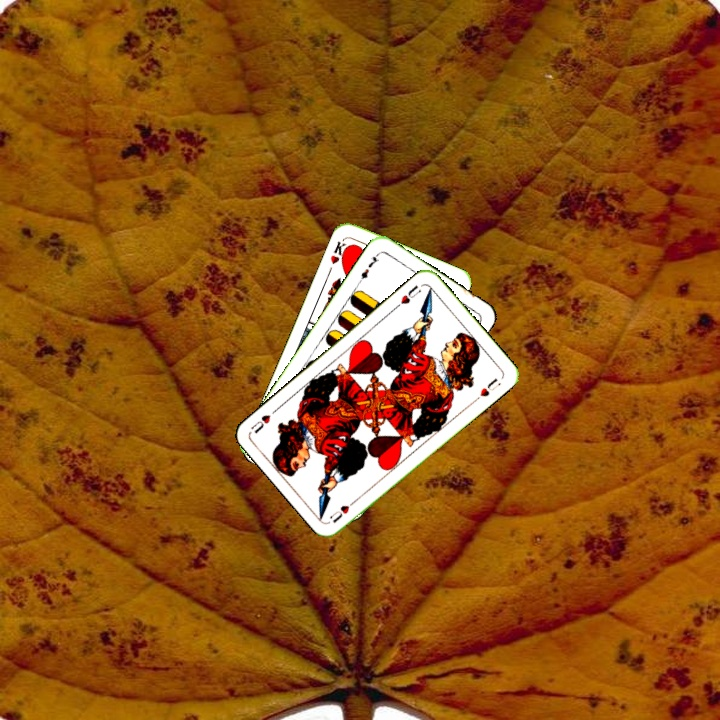E7: (355, 249, 382, 285)
HK: (326, 235, 352, 266)
HU: (325, 495, 360, 526), (391, 281, 424, 311)
